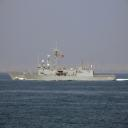Fragata: (7, 43, 117, 83)
